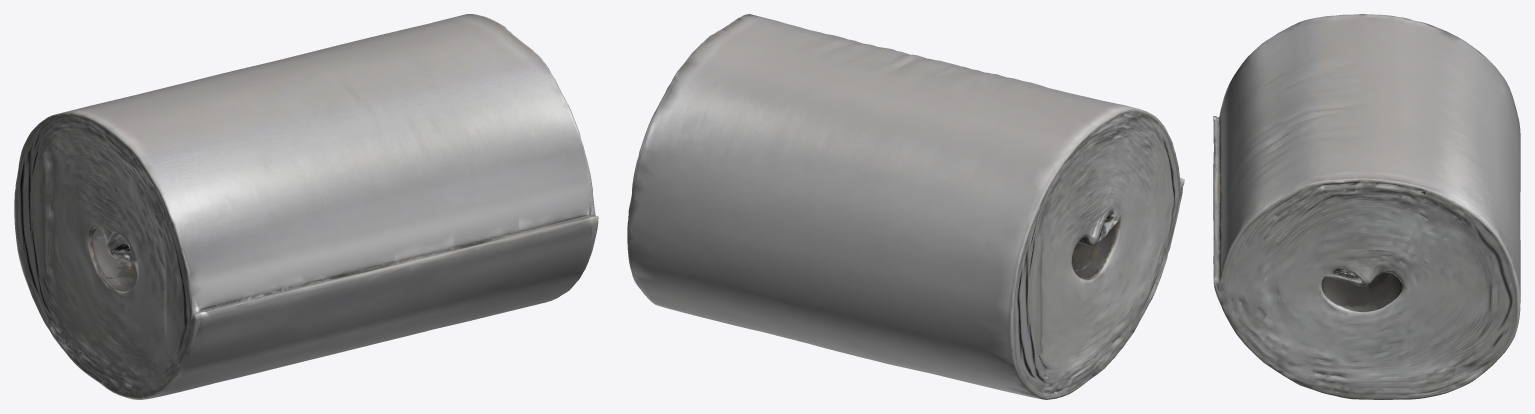
3 views of the same model, side by side, from view 1: azimuth 30°, elevation 25°; view 2: azimuth 150°, elevation 25°; view 3: azimuth 270°, elevation 25° (orthographic). The views are drawn at different scales.
Bounding box in the file's own units: 2.01 × 1.24 × 1.56.
Materials: 1 (1 with a texture image).
